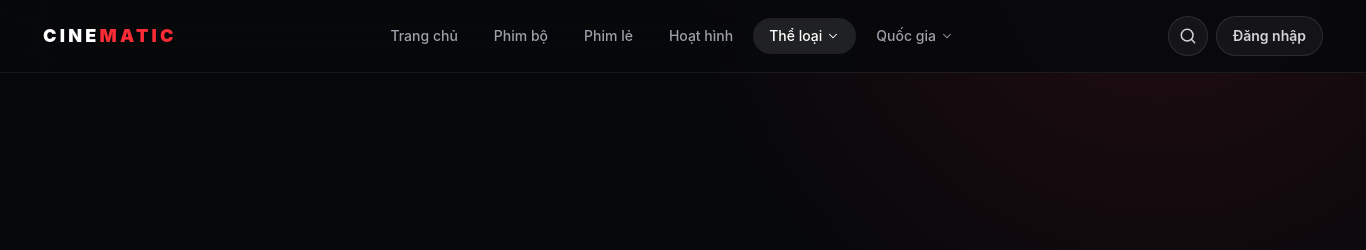
it: HeaderNavigation taxonomy menus › keeps the dropdown available with an error state when OPhim fails
The width and height of the screenshot is (1366, 250).
Click the button "Thể loại": (805, 36) top-left (753, 18), bottom-right (856, 54)
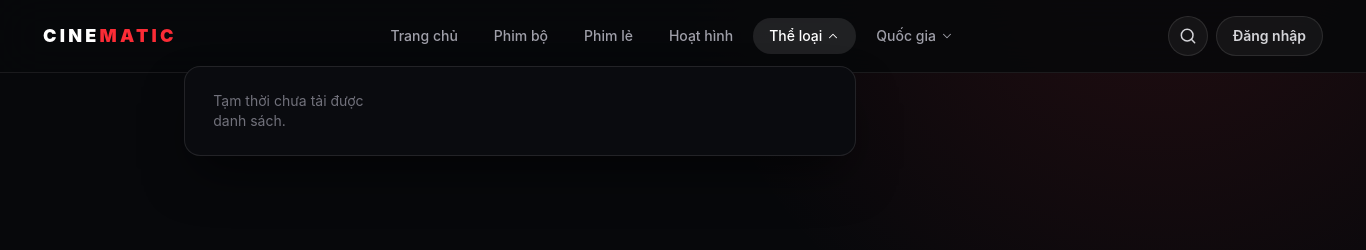
Check: the text "Tạm thời chưa tải được danh sách." is shown, box top-left (213, 92), bottom-right (364, 129)
